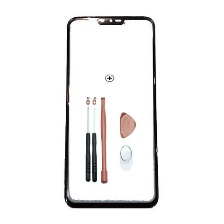phone: (61, 9, 162, 211)
